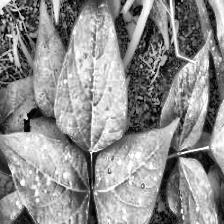Bean Rust: (50, 0, 126, 150), (91, 117, 178, 224), (0, 127, 88, 224), (160, 39, 212, 156), (167, 155, 223, 224), (0, 0, 33, 39)
